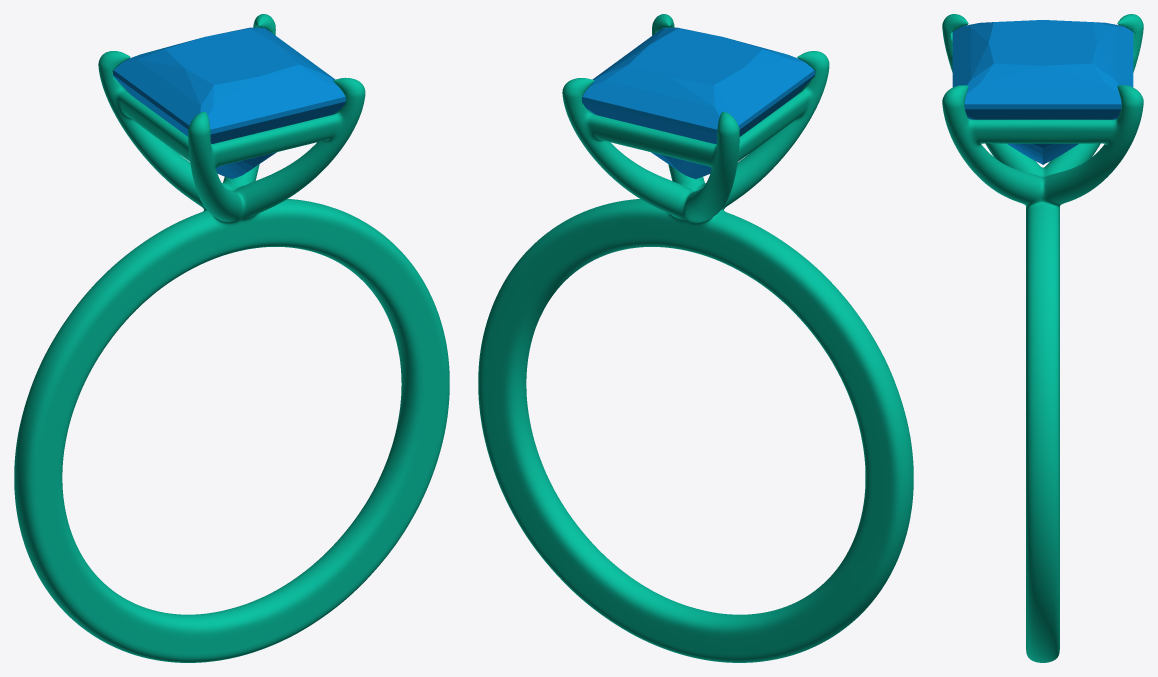
File: BE17652_PR_200ct_RENDER.glb
3 views of the same model, side by side, from view 1: azimuth 30°, elevation 25°; view 2: azimuth 150°, elevation 25°; view 3: azimuth 270°, elevation 25° (orthographic).
Parts seen in each view (by area): view 1: Metal 01, CS_Diamond_Princess; view 2: Metal 01, CS_Diamond_Princess; view 3: Metal 01, CS_Diamond_Princess.
Part boxes in pixels (<box>): Metal 01: <box>14,14,449,662</box>; CS_Diamond_Princess: <box>112,27,345,178</box>; Metal 01: <box>478,14,913,662</box>; CS_Diamond_Princess: <box>582,27,814,178</box>; Metal 01: <box>942,14,1143,662</box>; CS_Diamond_Princess: <box>952,20,1133,164</box>.
Bounding box in the file's own units: 20.5 × 27.33 × 8.36.
